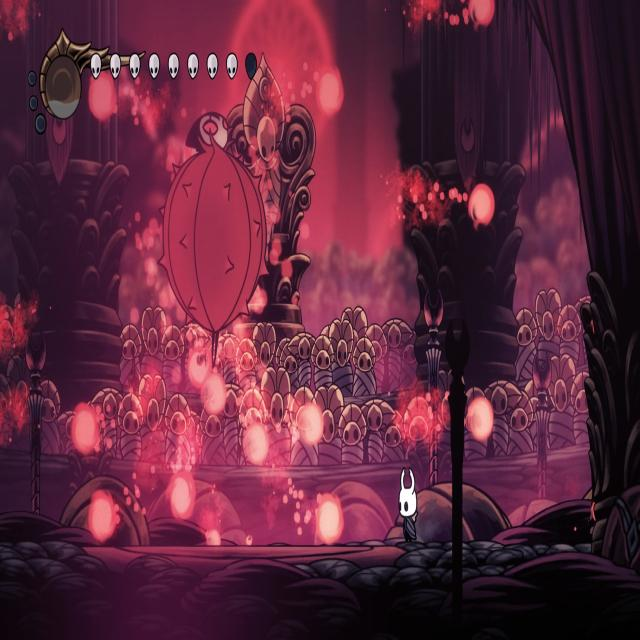Player: (394, 460, 422, 544)
Pufferfish: (157, 105, 276, 377)
Tiny Fireballs: (87, 489, 117, 542), (72, 405, 101, 458), (89, 72, 118, 124), (316, 68, 342, 116), (169, 471, 196, 517), (468, 396, 494, 442), (298, 402, 324, 445), (316, 498, 341, 542), (202, 373, 227, 415), (244, 423, 269, 464), (469, 184, 493, 226), (187, 348, 210, 389), (470, 0, 496, 28)
